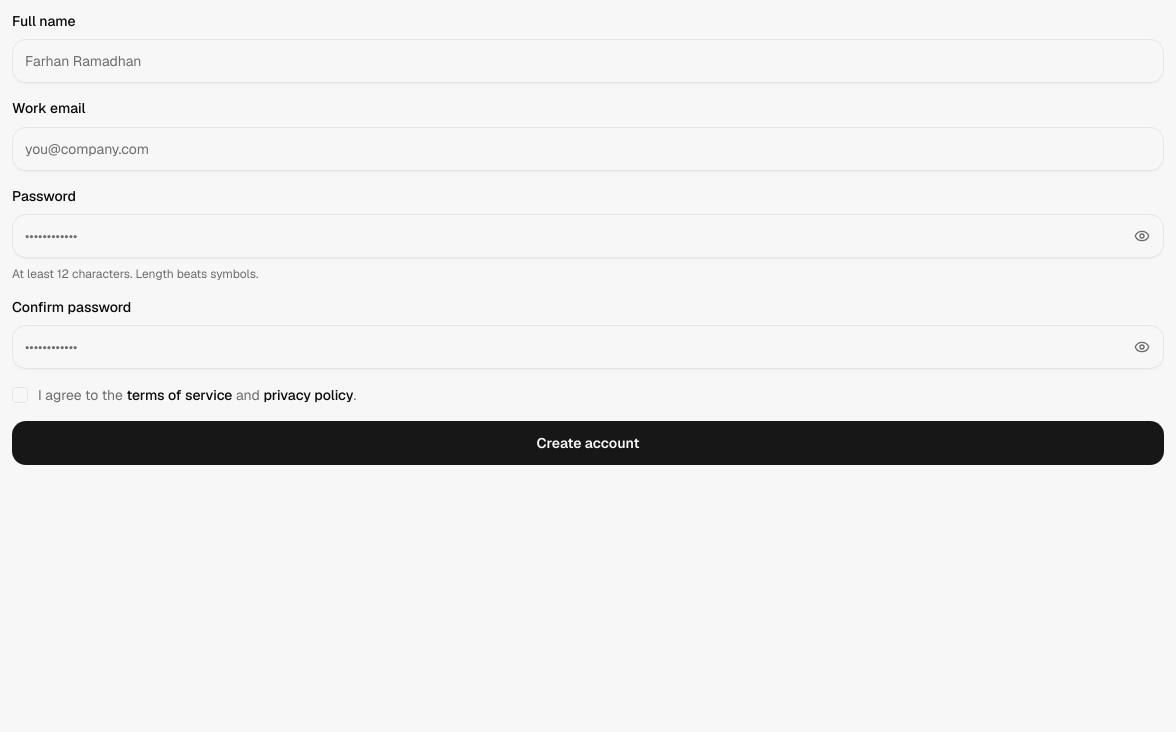
RegisterForm › surfaces a mismatched-password error against the confirm field
The width and height of the screenshot is (1176, 732).
What coordinates should you click on to do the following:
click the button "Create account"
I would click on:
 (588, 443)
Its box is [12,421,1164,465].
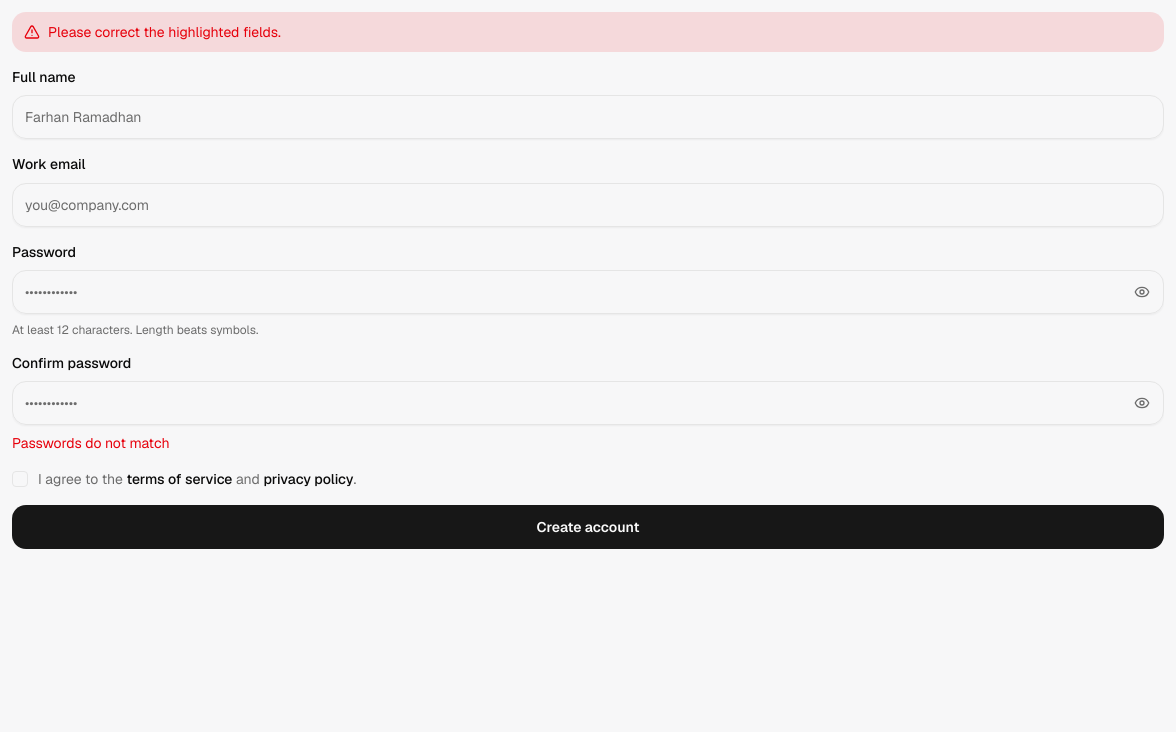
Result: the text "Passwords do not match" is shown at [12,434,170,452]
